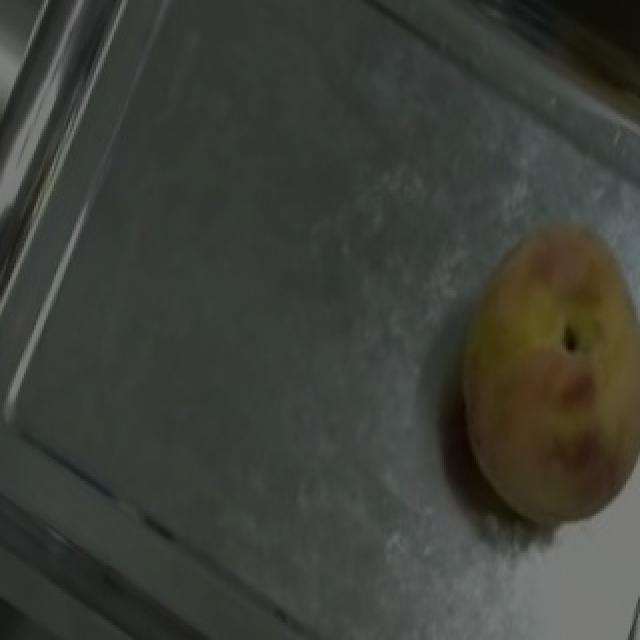Fruit: (406, 189, 640, 563)
